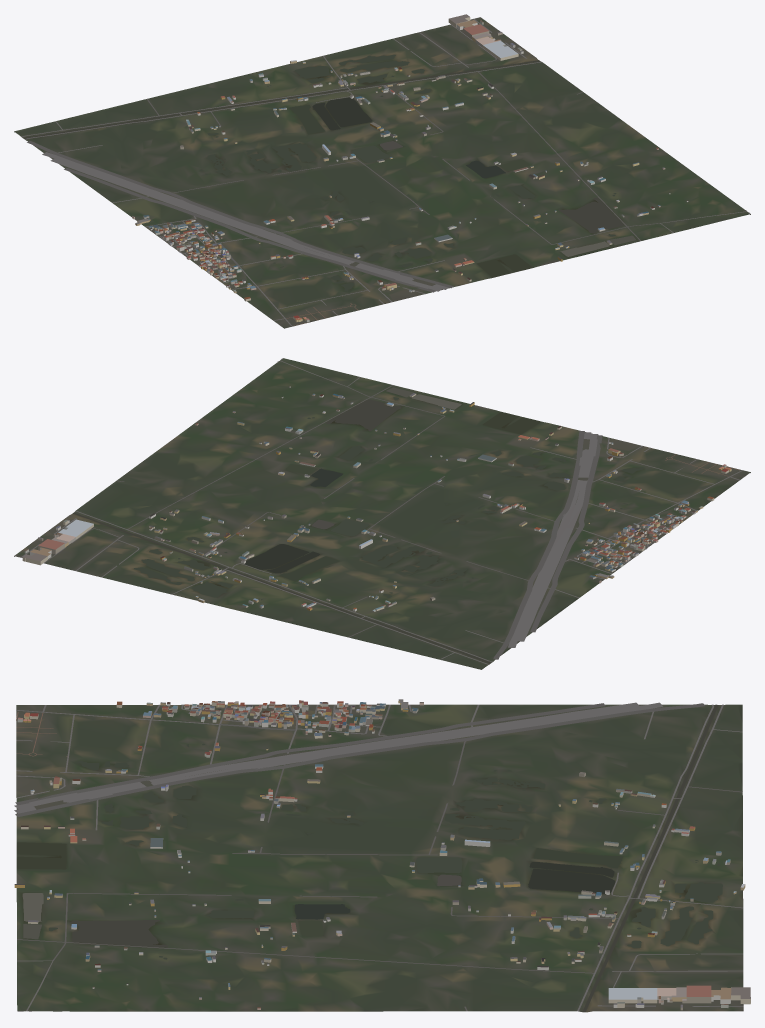
3 views of the same model, one above another, from view 1: azimuth 30°, elevation 25°; view 2: azimuth 150°, elevation 25°; view 3: azimuth 270°, elevation 25° (orthographic). The views are drawn at different scales.
Visible parts, largest first — view 1: ground, water, roads, buildings; view 2: ground, water, roads, buildings; view 3: ground, water, roads, buildings.
Part boxes in pixels (x1,y1,x2,y2): ground: [14, 17, 750, 328]; water: [23, 54, 635, 291]; roads: [21, 18, 750, 326]; buildings: [132, 14, 688, 322]; ground: [14, 358, 750, 669]; water: [72, 387, 642, 663]; roads: [21, 358, 742, 664]; buildings: [22, 386, 731, 611]; ground: [16, 704, 743, 1012]; water: [17, 704, 722, 1011]; roads: [14, 702, 743, 1011]; buildings: [14, 699, 750, 1010].
Size of the model in its own units: 1419 by 18.02 by 1422.
